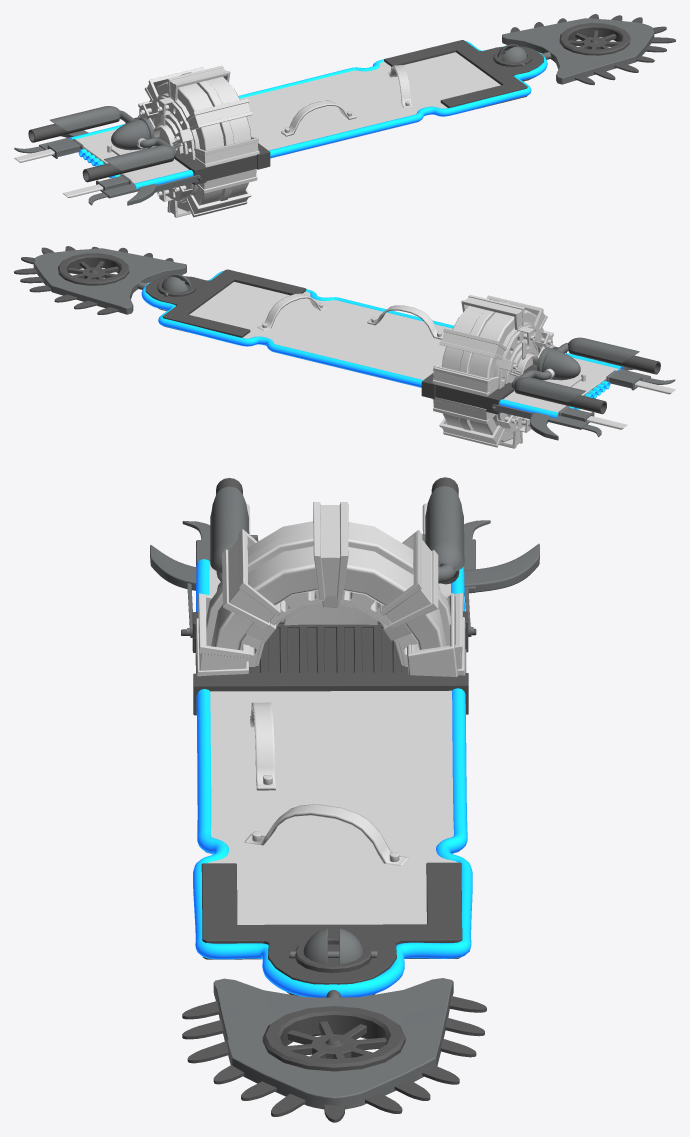
The model's file is Skate_motor_update (1).fbx.
3 views of the same model, one above another, from view 1: azimuth 30°, elevation 25°; view 2: azimuth 150°, elevation 25°; view 3: azimuth 270°, elevation 25° (orthographic). The views are drawn at different scales.
Visible parts, largest first — view 1: Plane.029, Plane.023, BezierCurve.001, Plane.030, Cylinder.021, Sphere.003, Cube.003, Cylinder.010, Cylinder.003, Cylinder.026, Cylinder.027, Sphere.001 (+16 smaller); view 2: Plane.029, Plane.023, BezierCurve.001, Plane.030, Cylinder.021, Sphere.003, Cube.003, Cylinder.003, Cylinder.010, Cylinder.041, Cylinder.042, Sphere.001 (+16 smaller); view 3: Plane.029, Plane.023, BezierCurve.001, Cube.003, Plane.030, Cylinder.021, Cylinder.010, Sphere.003, Cylinder.022, Cylinder.023, Plane.003, Cylinder.026 (+11 smaller).
Boxes of the visible parts, <box> form: Plane.029: <box>72,52,500,186</box>; Plane.023: <box>502,18,654,84</box>; BezierCurve.001: <box>69,41,547,189</box>; Plane.030: <box>384,40,543,110</box>; Cylinder.021: <box>149,76,251,150</box>; Sphere.003: <box>50,106,175,170</box>; Cube.003: <box>125,117,270,184</box>; Cylinder.010: <box>559,23,630,55</box>; Cylinder.003: <box>28,117,174,182</box>; Cylinder.026: <box>186,98,252,130</box>; Cylinder.027: <box>194,136,259,167</box>; Sphere.001: <box>111,117,154,150</box>; Plane.029: <box>162,282,620,416</box>; Plane.023: <box>33,248,186,314</box>; BezierCurve.001: <box>141,271,623,418</box>; Plane.030: <box>145,269,306,337</box>; Cylinder.021: <box>442,306,543,378</box>; Sphere.003: <box>514,337,639,402</box>; Cube.003: <box>421,346,566,414</box>; Cylinder.003: <box>515,349,660,414</box>; Cylinder.010: <box>58,253,129,285</box>; Cylinder.041: <box>439,328,506,359</box>; Cylinder.042: <box>432,365,498,396</box>; Sphere.001: <box>537,347,580,380</box>; Plane.029: <box>205,563,459,924</box>; Plane.023: <box>213,978,453,1109</box>; BezierCurve.001: <box>193,559,472,997</box>; Cube.003: <box>192,611,468,715</box>; Plane.030: <box>201,862,462,995</box>; Cylinder.021: <box>211,521,446,649</box>; Cylinder.010: <box>262,1006,405,1071</box>; Sphere.003: <box>210,486,464,572</box>; Cylinder.022: <box>313,501,348,600</box>; Cylinder.023: <box>206,532,450,646</box>; Plane.003: <box>150,543,539,592</box>; Cylinder.026: <box>222,529,280,628</box>.
Size of the model in its own units: 334 by 68.51 by 90.26.
